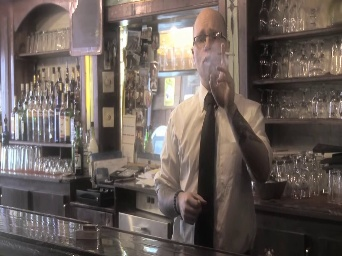smoke: (216, 48, 236, 57)
